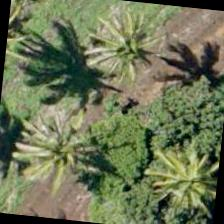Kelapa_Sawit: (13, 95, 112, 194), (81, 0, 181, 94), (153, 152, 221, 223)
